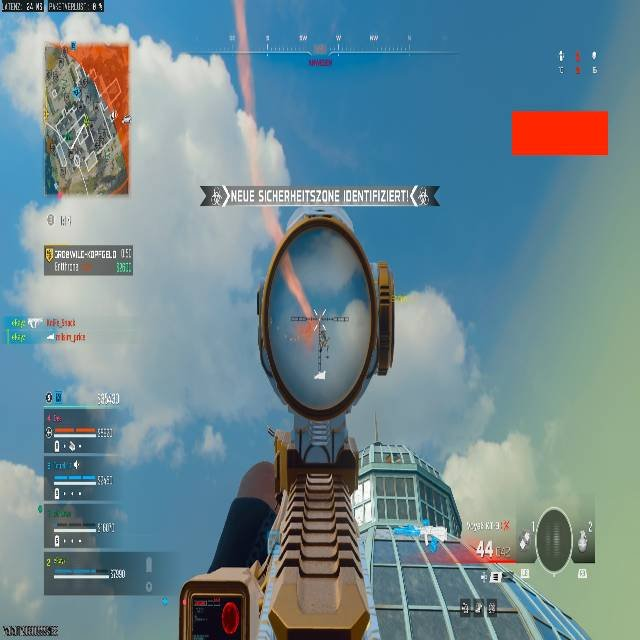head: (255, 218, 397, 420)
player: (318, 328, 328, 353)
